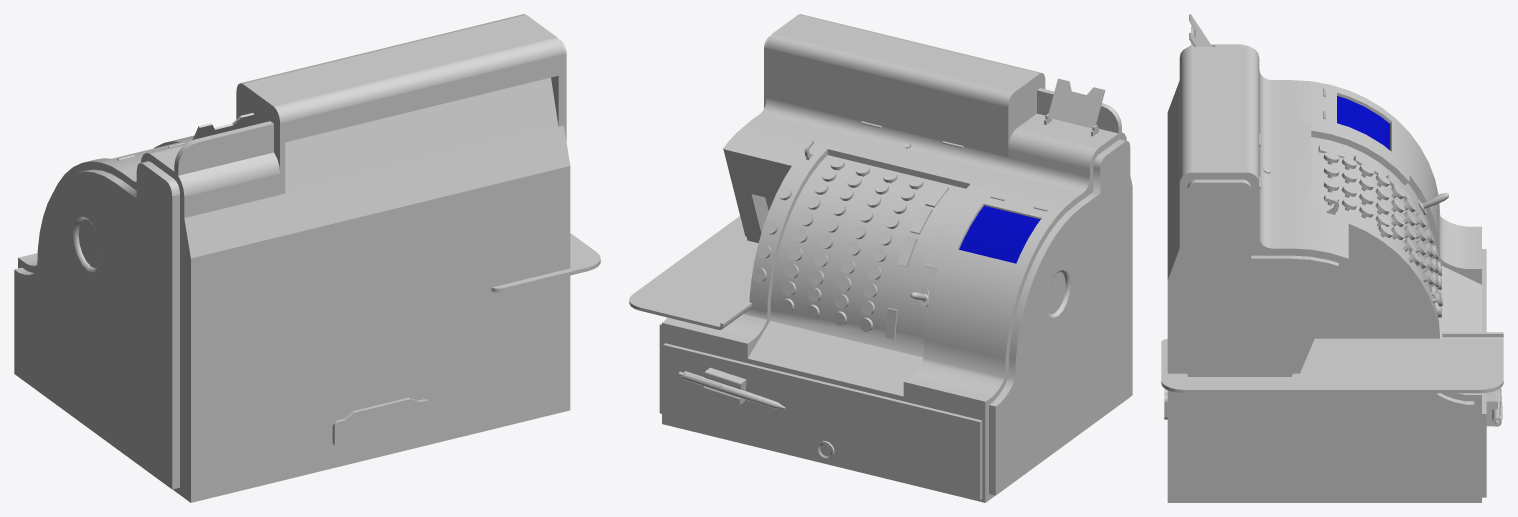
The model's file is Cash machine.fbx.
3 views of the same model, side by side, from view 1: azimuth 30°, elevation 25°; view 2: azimuth 150°, elevation 25°; view 3: azimuth 270°, elevation 25° (orthographic). The views are drawn at different scales.
Visible parts, largest first — view 1: Cash machine; view 2: Cash machine; view 3: Cash machine.
Part boxes in pixels (x1,y1,x2,y2): Cash machine: (14,14,600,502); Cash machine: (629,14,1132,502); Cash machine: (1161,14,1503,502).
Size of the model in its own units: 0.73 by 0.5984 by 0.5621.
